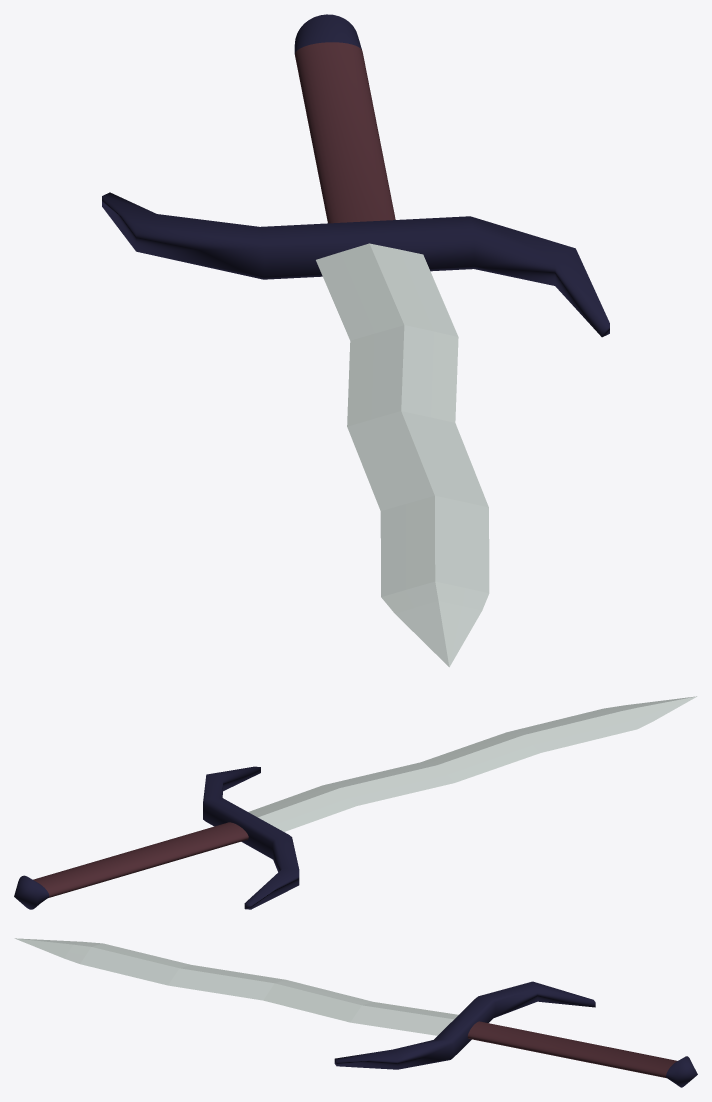
The model's file is assassinDagger.glb.
3 renders of one model, top to bottom at view 1: azimuth 30°, elevation 25°; view 2: azimuth 150°, elevation 25°; view 3: azimuth 270°, elevation 25°, orthographic. The views are drawn at different scales.
Visible parts, largest first — view 1: bladeDagger.001, guardDagger.001, handleDagger.001; view 2: bladeDagger.001, handleDagger.001, guardDagger.001; view 3: bladeDagger.001, guardDagger.001, handleDagger.001.
Part boxes in pixels (left/top/right/bottom): bladeDagger.001: left=316, top=243, right=489, bottom=667; guardDagger.001: left=102, top=192, right=609, bottom=337; handleDagger.001: left=294, top=14, right=395, bottom=223; bladeDagger.001: left=248, top=696, right=697, bottom=831; handleDagger.001: left=14, top=822, right=248, bottom=909; guardDagger.001: left=203, top=766, right=299, bottom=909; bladeDagger.001: left=14, top=938, right=458, bottom=1035; guardDagger.001: left=334, top=981, right=595, bottom=1069; handleDagger.001: left=467, top=1021, right=697, bottom=1087.
Bounding box in the file's own units: 0.6692 × 0.0646 × 1.38.
